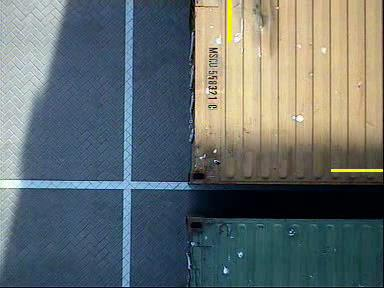groundmarker_2: (27, 136, 126, 239)
